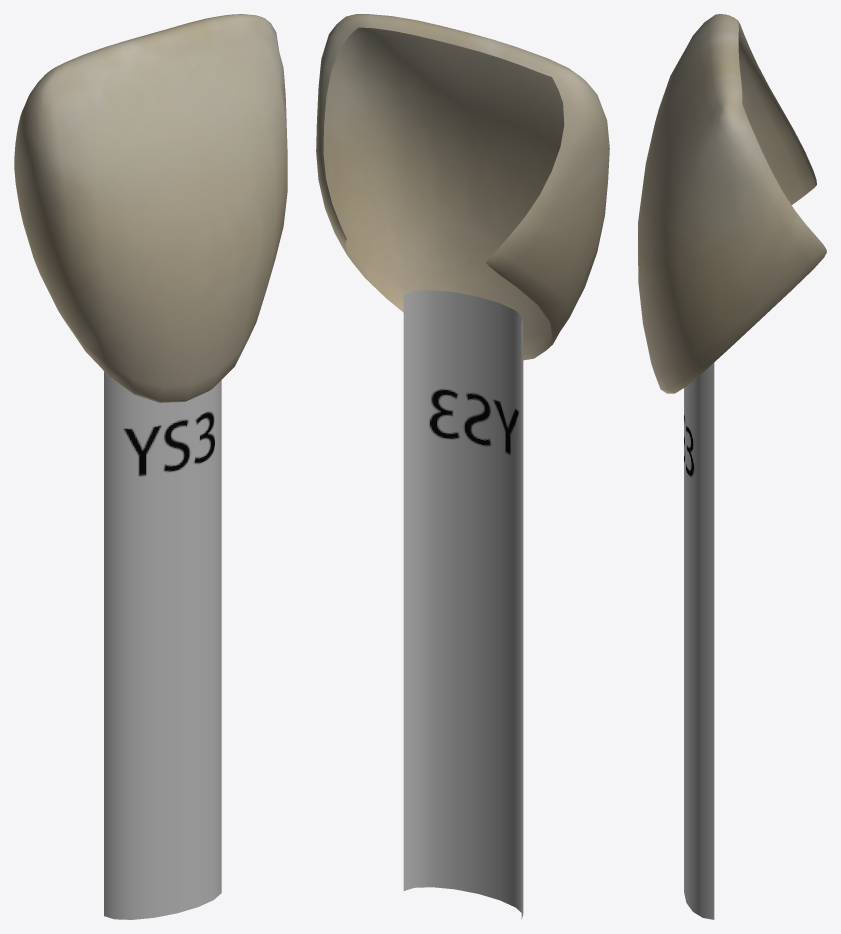
3 views of the same model, side by side, from view 1: azimuth 30°, elevation 25°; view 2: azimuth 150°, elevation 25°; view 3: azimuth 270°, elevation 25° (orthographic). The views are drawn at different scales.
Visible parts, largest first — view 1: Tab; view 2: Tab; view 3: Tab.
Part boxes in pixels (<box>): Tab: <box>14,14,287,919</box>; Tab: <box>316,14,609,919</box>; Tab: <box>638,14,826,919</box>.
Size of the model in its own units: 0.00866 by 0.0274 by 0.00556.
Materials: 1 (1 with a texture image).
